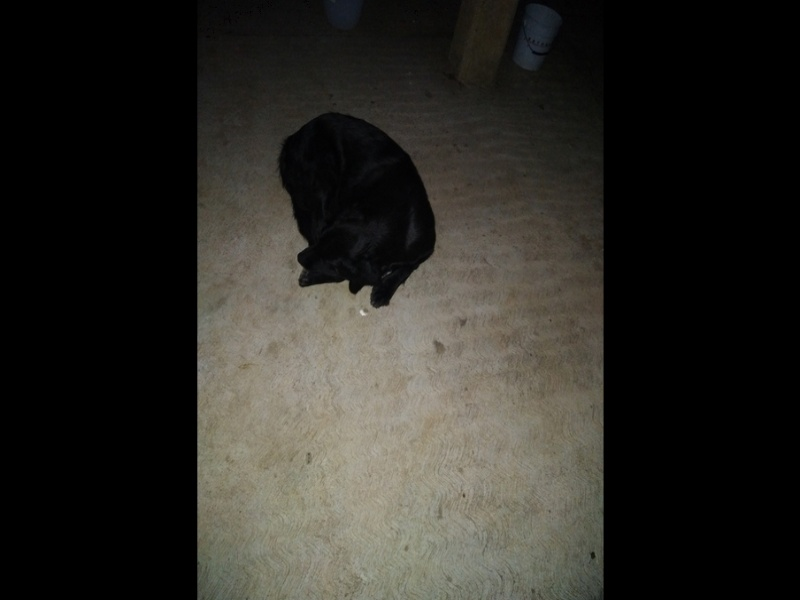dog: (268, 107, 441, 313)
